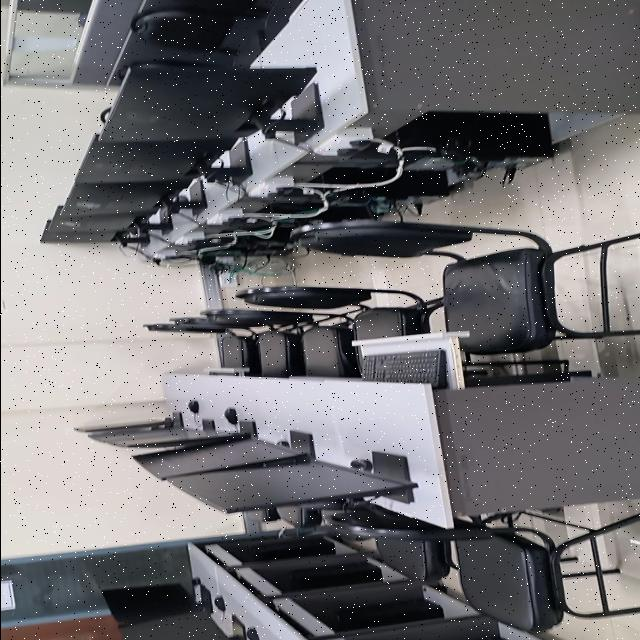Chair: (292, 220, 640, 354), (326, 508, 640, 632), (235, 287, 442, 339), (201, 310, 360, 377), (169, 319, 297, 378), (131, 9, 261, 57), (140, 326, 250, 376), (376, 540, 449, 585), (148, 0, 300, 17), (275, 507, 321, 527), (241, 509, 278, 522)
Cpu: (386, 109, 555, 171), (311, 167, 448, 209), (334, 597, 442, 630), (290, 562, 381, 590), (251, 537, 334, 561)
Keyboard: (361, 350, 445, 388)
Monitor: (100, 64, 323, 143), (168, 452, 415, 513), (132, 431, 313, 481), (75, 135, 250, 183), (101, 579, 209, 626), (61, 181, 204, 215), (99, 422, 254, 448), (119, 611, 246, 640), (51, 207, 167, 231), (71, 411, 178, 434), (40, 220, 117, 243), (85, 426, 187, 443)
Mouse: (348, 460, 371, 473), (223, 408, 236, 424), (213, 596, 225, 612), (186, 401, 198, 413), (245, 629, 258, 640), (274, 441, 288, 447), (191, 579, 199, 586)
